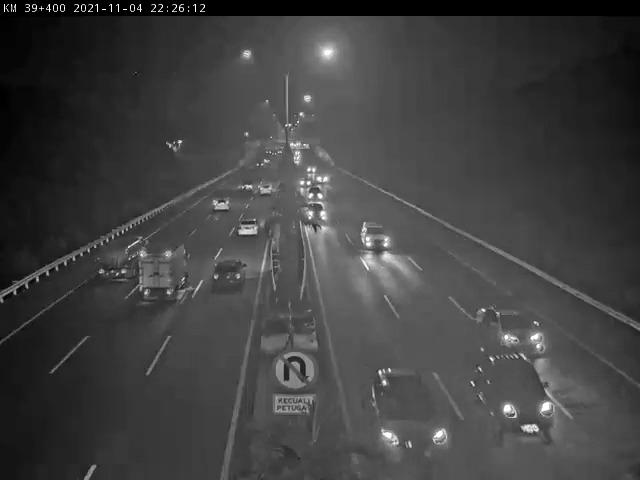car: (473, 350, 555, 441), (371, 368, 450, 460), (477, 305, 546, 354), (211, 258, 249, 295), (361, 221, 389, 251), (304, 199, 327, 227), (239, 217, 260, 241), (211, 195, 232, 214), (259, 182, 273, 197)
truck-l-: (94, 230, 137, 281)
truck-m-: (142, 247, 189, 300)
